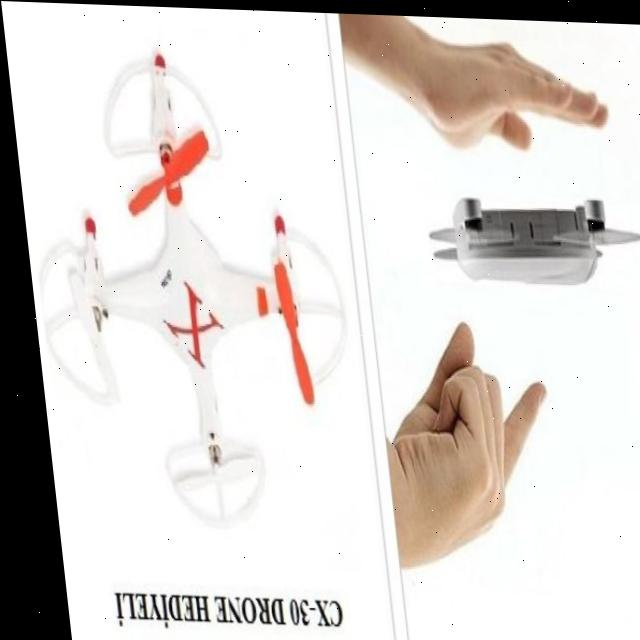drones: (0, 2, 362, 558), (406, 156, 640, 326)
